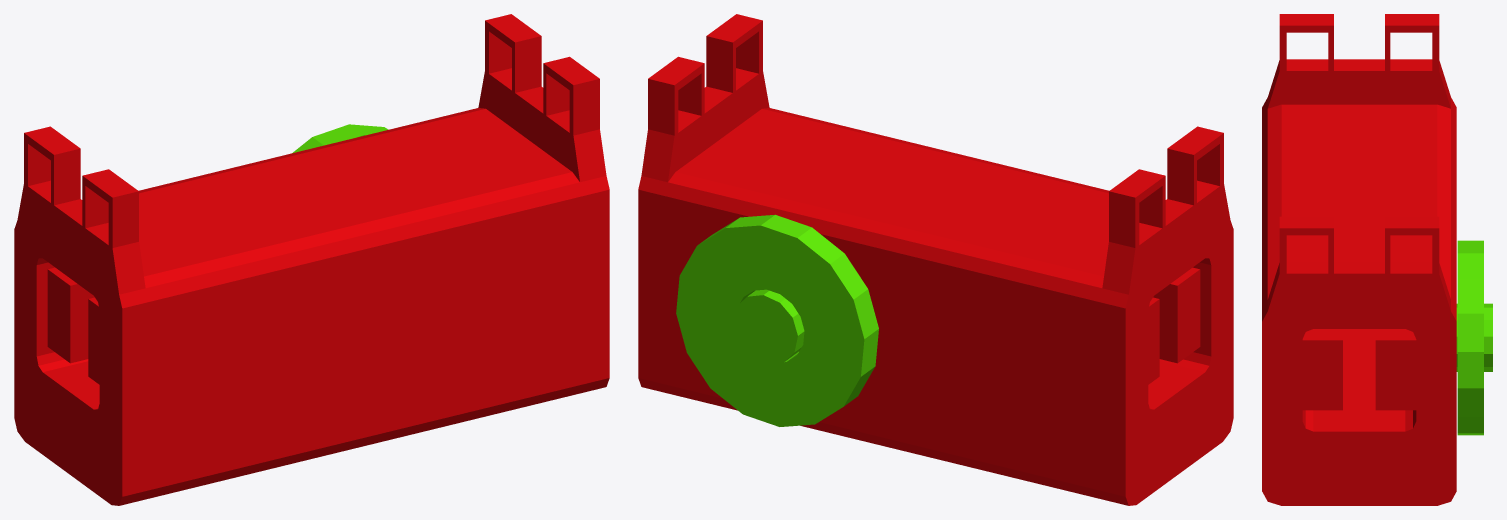
The model's file is Cuerpo.fbx.
3 renders of one model, left to right at view 1: azimuth 30°, elevation 25°; view 2: azimuth 150°, elevation 25°; view 3: azimuth 270°, elevation 25°, orthographic. The views are drawn at different scales.
Visible parts, largest first — view 1: Cube.005; view 2: Cube.005; view 3: Cube.005.
Boxes of the visible parts, box(x1,y1,x2,y2) form: Cube.005: box(14, 14, 609, 505); Cube.005: box(638, 14, 1233, 505); Cube.005: box(1262, 14, 1492, 505).
Bounding box in the file's own units: 633 × 382 × 288.
